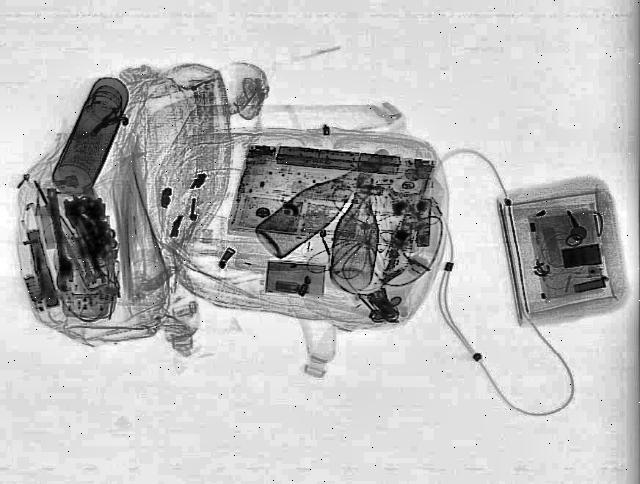Wrench: (42, 188, 78, 291), (86, 249, 110, 283)
